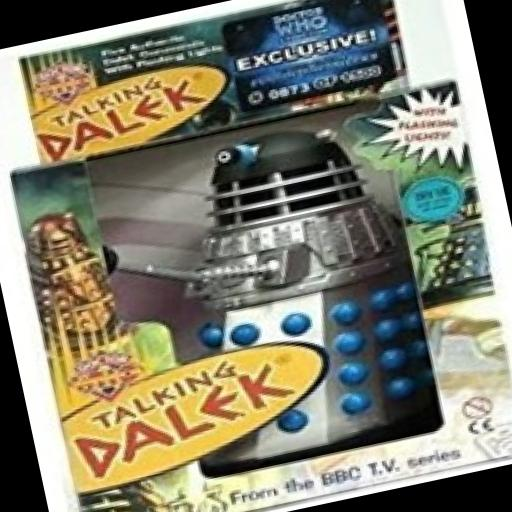dalek: (83, 110, 459, 508), (18, 200, 129, 372)
